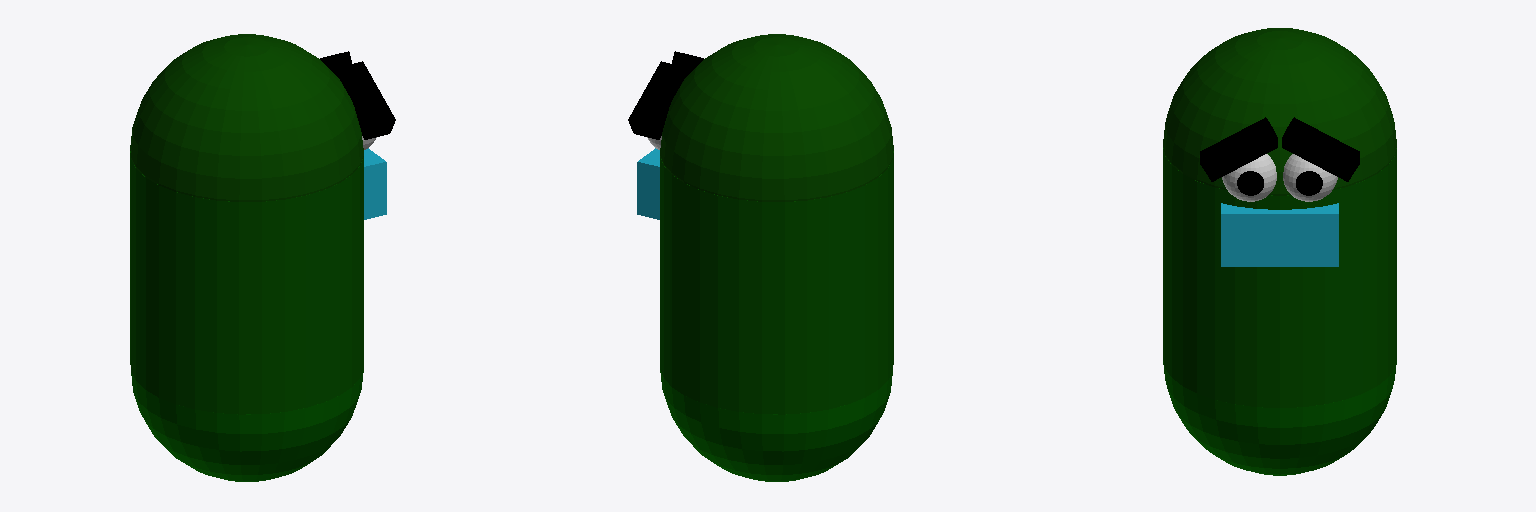
Rendered from sick_mask_bean.obj.
The picture shows the model from 3 angles: view 1: azimuth 30°, elevation 25°; view 2: azimuth 150°, elevation 25°; view 3: azimuth 270°, elevation 25°; orthographic projection.
Parts seen in each view (by area): view 1: Cylinder, Sphere, Sphere.001, Cube.001_Cube.002, Cube.002_Cube.003; view 2: Cylinder, Sphere, Sphere.001, Cube_Cube.001, Cube.002_Cube.003; view 3: Cylinder, Sphere, Sphere.001, Cube.002_Cube.003, Cube_Cube.001, Cube.001_Cube.002, Sphere.002, Sphere.003, Sphere.004, Sphere.005.
Boxes of the visible parts, <box> form: Cylinder: <box>130,151,363,414</box>; Sphere: <box>130,34,363,201</box>; Sphere.001: <box>131,370,363,481</box>; Cube.001_Cube.002: <box>335,61,395,139</box>; Cube.002_Cube.003: <box>364,148,386,219</box>; Cylinder: <box>660,151,893,414</box>; Sphere: <box>660,34,893,201</box>; Sphere.001: <box>660,370,892,481</box>; Cube_Cube.001: <box>628,61,688,139</box>; Cube.002_Cube.003: <box>637,148,659,219</box>; Cylinder: <box>1163,148,1396,407</box>; Sphere: <box>1163,28,1396,195</box>; Sphere.001: <box>1163,361,1396,475</box>; Cube.002_Cube.003: <box>1221,203,1338,266</box>; Cube_Cube.001: <box>1282,117,1359,181</box>; Cube.001_Cube.002: <box>1200,117,1277,181</box>; Sphere.002: <box>1222,154,1276,201</box>; Sphere.003: <box>1283,154,1337,201</box>; Sphere.004: <box>1237,171,1263,195</box>; Sphere.005: <box>1296,171,1322,195</box>.
Bounding box in the file's own units: 4.35 × 8.04 × 4.